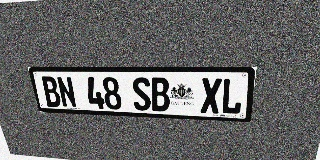4: (84, 77, 105, 109)
8: (101, 77, 122, 110)
B: (150, 77, 170, 112), (40, 76, 62, 107)
L: (221, 78, 244, 115)
N: (56, 76, 77, 108)
S: (131, 77, 152, 111)
X: (200, 78, 222, 114)
